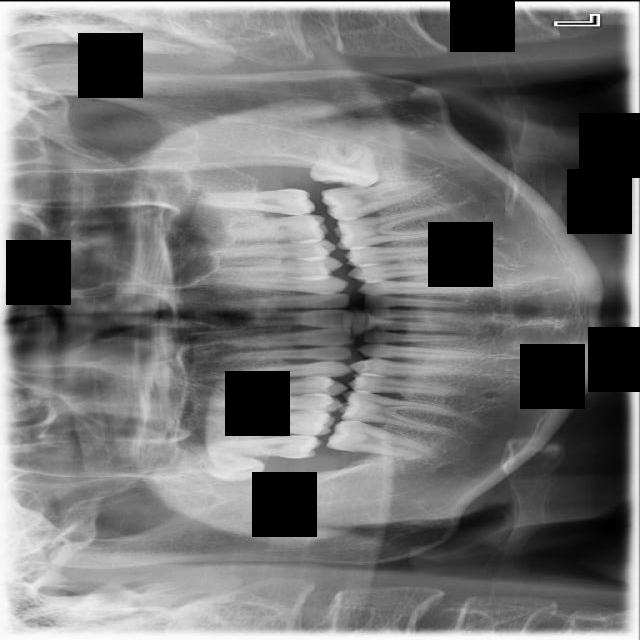3M ESPE Implant: (173, 437, 267, 490)
52: (342, 395, 363, 420), (350, 182, 379, 189)
73: (566, 14, 594, 24)
BioHorizons Implant: (186, 187, 316, 215)
Biomet 3i Implant: (308, 135, 384, 191)
Blue Sky Bio Implant: (320, 176, 431, 222)
Caries: (205, 433, 322, 459)
Implant: (325, 416, 435, 461)
